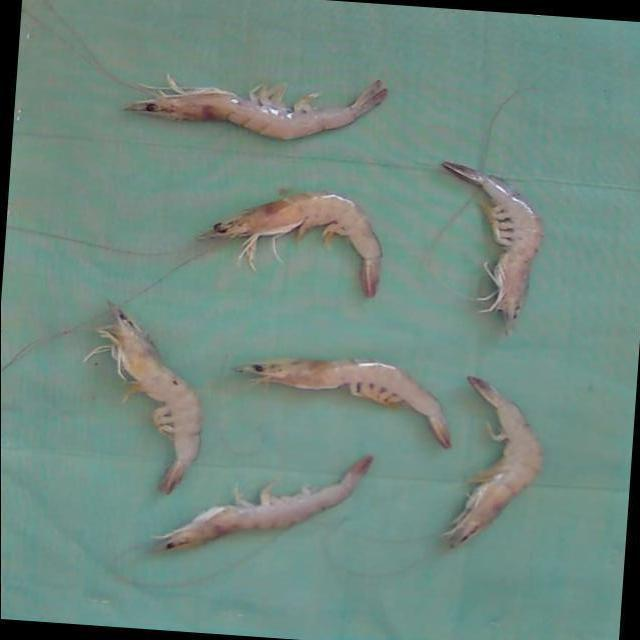shrimp: (82, 301, 201, 494), (151, 456, 372, 552), (235, 359, 451, 449), (199, 193, 382, 297), (441, 377, 543, 550), (442, 161, 543, 334), (124, 75, 387, 139)
